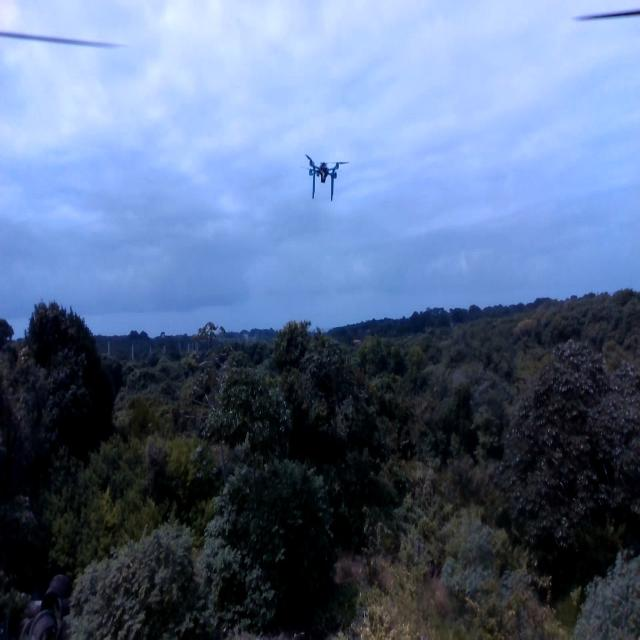-uav-: (296, 142, 356, 212)
